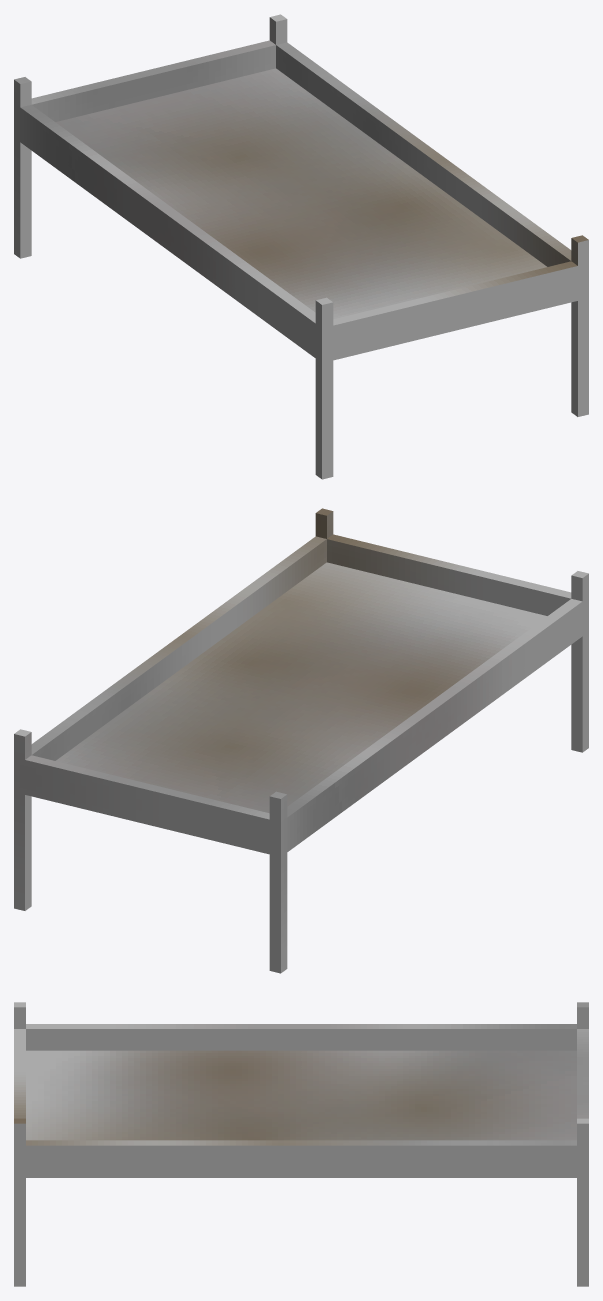
File: bunkBed.gltf
The picture shows the model from 3 angles, top to bottom: view 1: azimuth 30°, elevation 25°; view 2: azimuth 150°, elevation 25°; view 3: azimuth 270°, elevation 25°; orthographic projection. The views are drawn at different scales.
Parts seen in each view (by area): view 1: plane; view 2: plane; view 3: plane.
Part boxes in pixels (x1,y1,x2,y2): plane: (14, 14, 588, 479); plane: (14, 508, 588, 973); plane: (14, 1002, 588, 1286).
Bounding box in the file's own units: 1.5 × 0.9375 × 3.
Materials: 1 (1 with a texture image).
